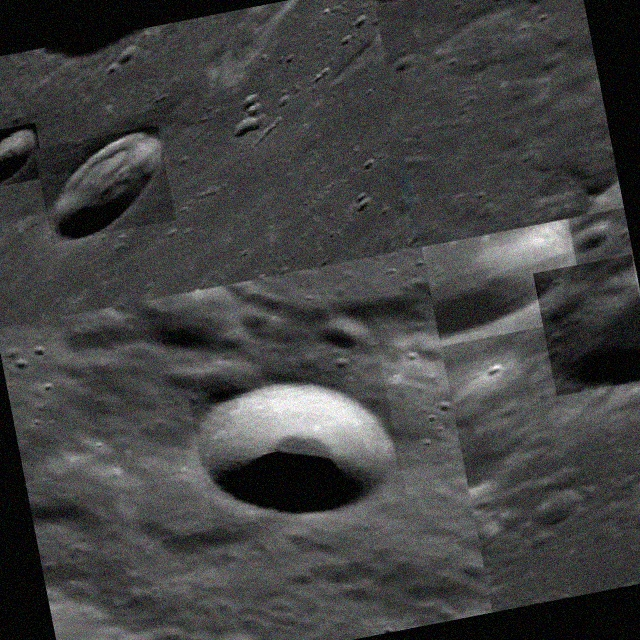crater: (188, 361, 407, 532), (422, 218, 588, 346), (35, 125, 176, 244), (533, 254, 640, 396), (0, 123, 46, 191)
